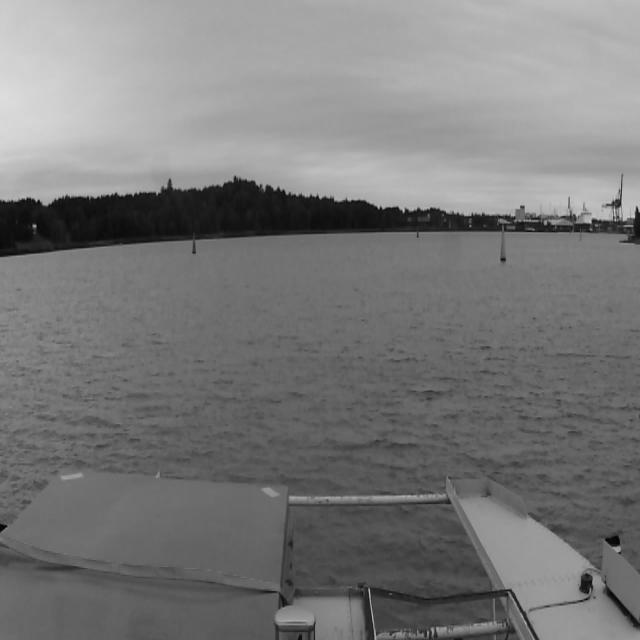buoy: (501, 224, 508, 261), (191, 232, 196, 253), (415, 225, 420, 236)
